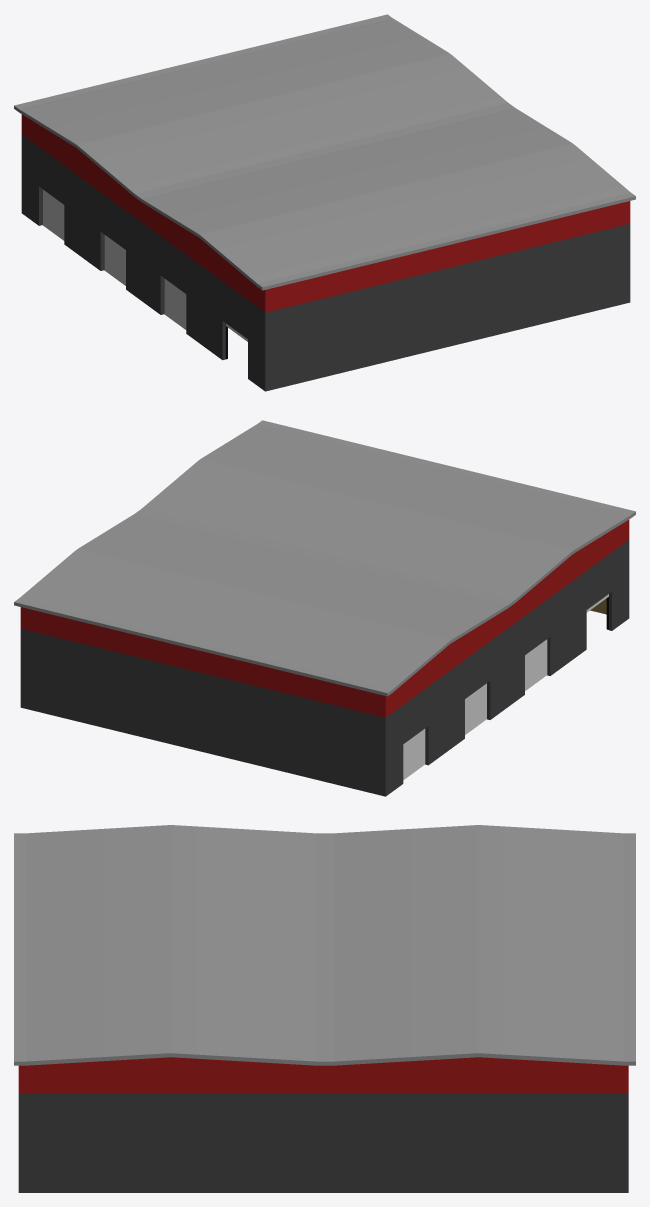
The model's file is Storehouse.fbx.
The picture shows the model from 3 angles, top to bottom: view 1: azimuth 30°, elevation 25°; view 2: azimuth 150°, elevation 25°; view 3: azimuth 270°, elevation 25°; orthographic projection. The views are drawn at different scales.
Parts seen in each view (by area): view 1: Стены002, Крыша002, Крыша003, Стены003, Ворота 006, Ворота 008, Ворота 007; view 2: Стены003, Крыша003, Крыша002, Стены002, Ворота 008, Ворота 006, Ворота 007; view 3: Крыша003, Крыша002, Стены002, Стены003.
Part boxes in pixels (x1,y1,x2,y2): Стены002: (143,201,630,391); Крыша002: (138,105,635,290); Крыша003: (14,14,511,199); Стены003: (21,114,143,301); Ворота 006: (164,278,186,329); Ворота 008: (42,189,64,240); Ворота 007: (104,234,125,285); Стены003: (20,607,507,796); Крыша003: (14,511,511,696); Крыша002: (139,420,635,604); Стены002: (507,520,629,706); Ворота 008: (403,728,425,779); Ворота 006: (525,639,547,690); Ворота 007: (465,683,486,734); Крыша003: (324,825,635,1065); Крыша002: (14,825,323,1065); Стены002: (18,1057,323,1192); Стены003: (323,1057,628,1192).
Size of the model in its own units: 59.45 by 17.22 by 68.48.
